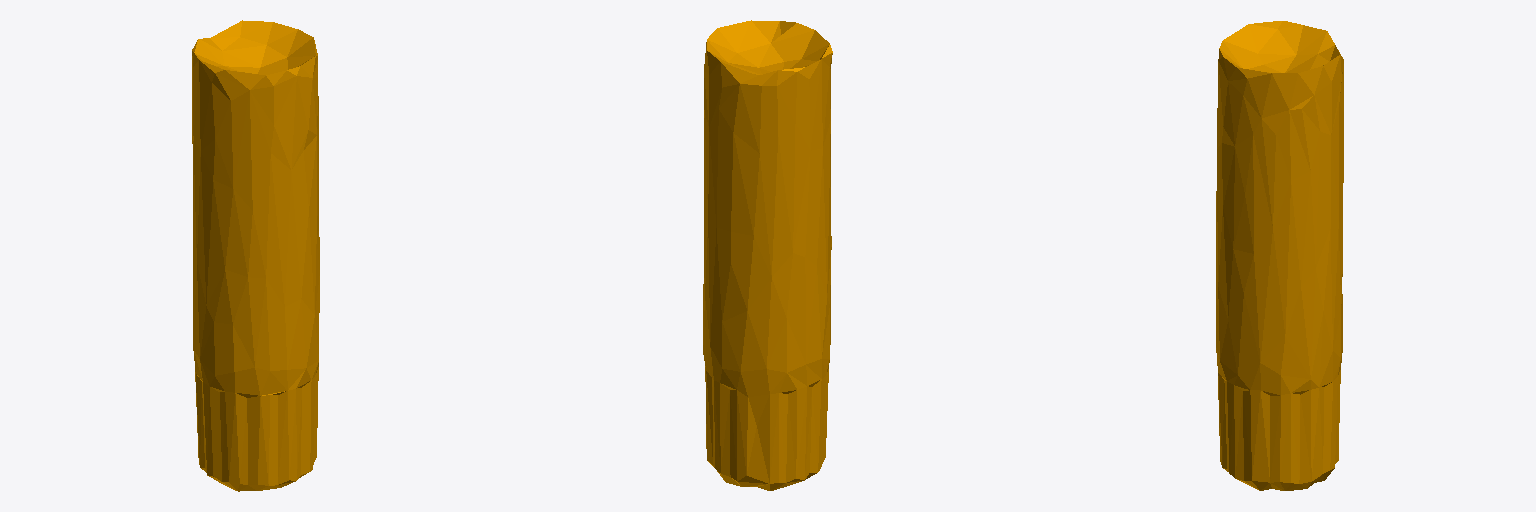
The robot description file, URDF, robot "WhippedCream_800_tex":
<?xml version="1.0"?>
<robot name="WhippedCream_800_tex">
  <link name="base_link">
    <contact>
      <lateral_friction value="1.0"/>
      <rolling_friction value="0.0"/>
      <contact_cfm value="0.0"/>
      <contact_erp value="1.0"/>
    </contact>
    <inertial>
      <mass value="0.166339401849"/>
      <inertia ixx="1" ixy="0" ixz="0" iyy="1" iyz="0" izz="1"/>
    </inertial>
    <visual>
      <geometry>
        <mesh filename="WhippedCream_800_tex_visual.obj"/>
      </geometry>
    </visual>
    <collision>
      <geometry>
        <mesh filename="WhippedCream_800_tex_collision.obj"/>
      </geometry>
    </collision>
  </link>
</robot>

--- What the picture shows (computed from the rendered views, not written in the file) ---
Views: 3 orthographic renders of the robot side by side, from view 1: azimuth 30°, elevation 25°; view 2: azimuth 150°, elevation 25°; view 3: azimuth 270°, elevation 25°.
Robot: WhippedCream_800_tex — 1 links, 0 joints (none); root link base_link; default pose: all joints at 0.
Links seen in each view (by area): view 1: base_link; view 2: base_link; view 3: base_link.
Boxes of the visible links, left/top/right/bottom form: base_link: left=192, top=20, right=319, bottom=491; base_link: left=703, top=20, right=832, bottom=490; base_link: left=1216, top=21, right=1343, bottom=490.
Bounding box of the posed robot: 0.0449 × 0.045 × 0.1653 m (x, y, z).
1 mesh visuals loaded from 1 distinct referenced files (1 OBJ).